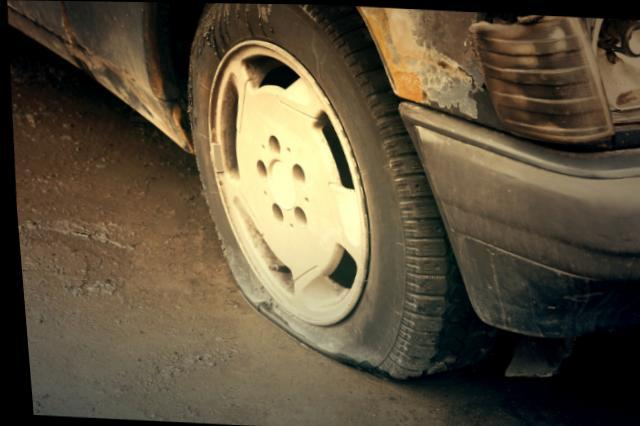tire flat: (188, 2, 484, 380)
